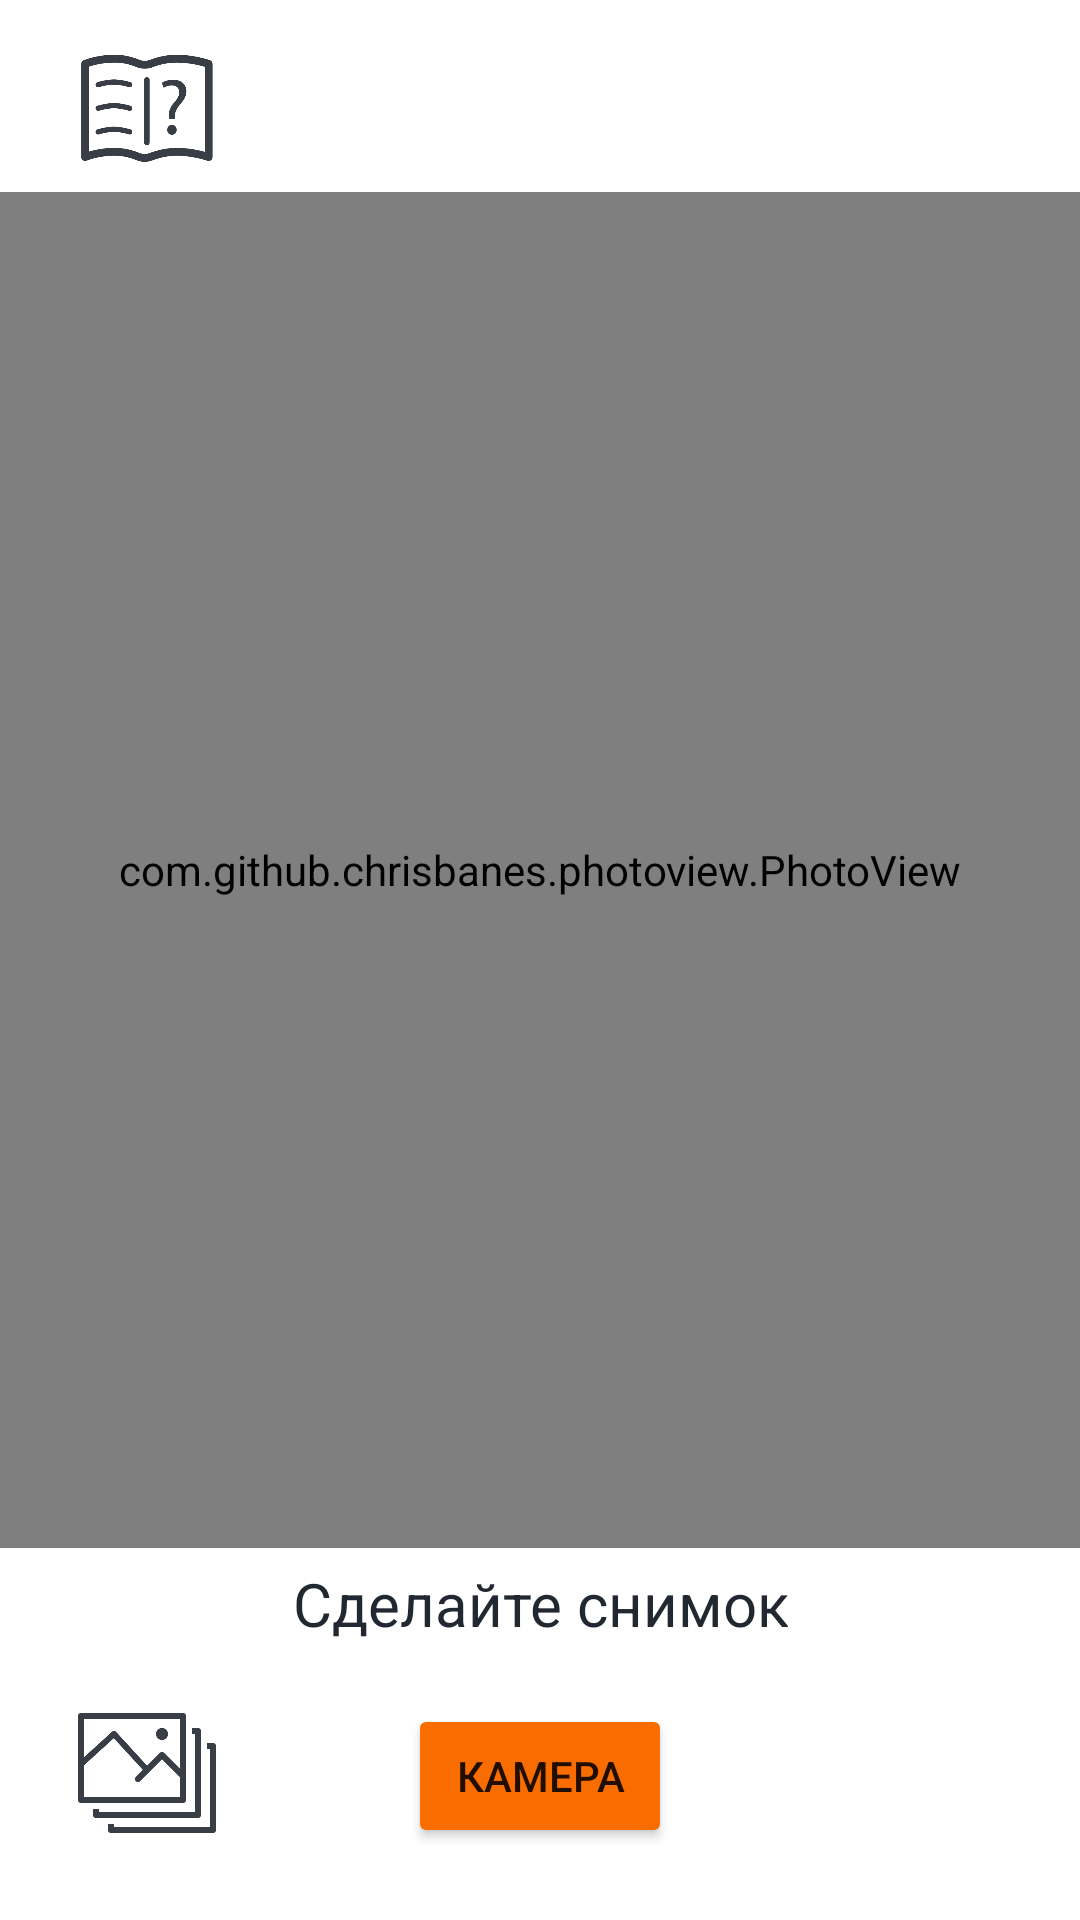

Screen size 1080px×1920px. Icon name, then its box in pixels as [x1,y1,x2,y2]:
gallery: [78,1713,216,1833]
manual: [81,55,213,162]
